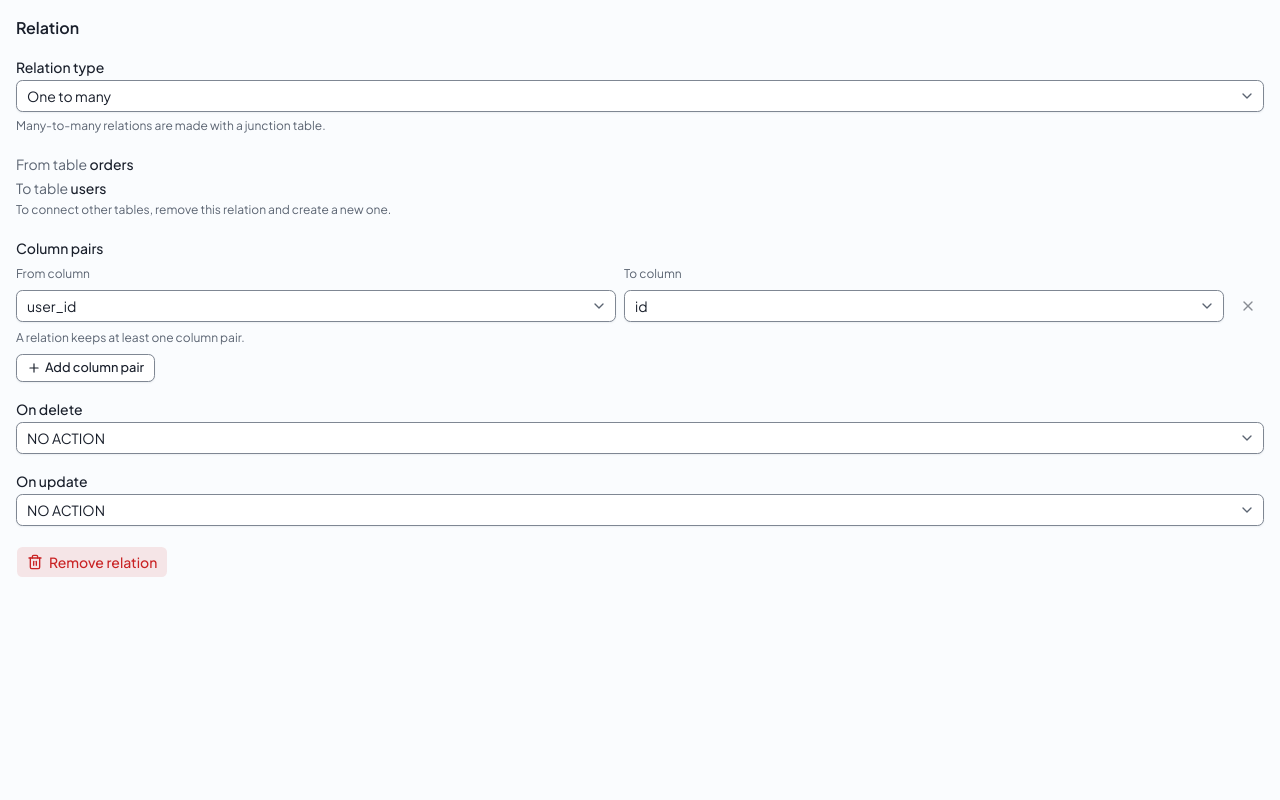
it: RelationPanel › offers all five referential actions
Click the dropdown named "On delete" at (66, 438), box [16,422,1264,454]
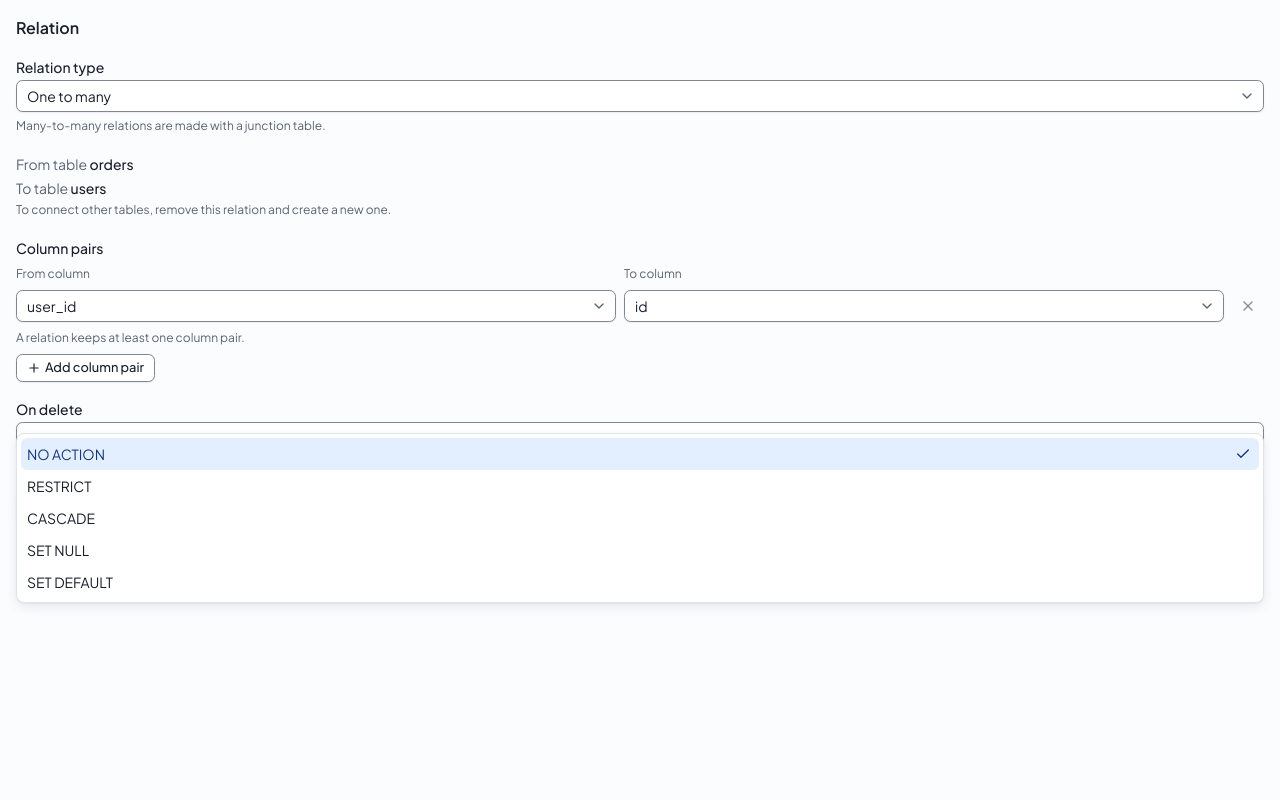
Expected: the options read "NO ACTION", "RESTRICT", "CASCADE", "SET NULL", "SET DEFAULT", in this order, [21,438,1259,470]; [27,476,91,494]; [27,508,95,526]; [27,540,89,558]; [27,572,113,590]
